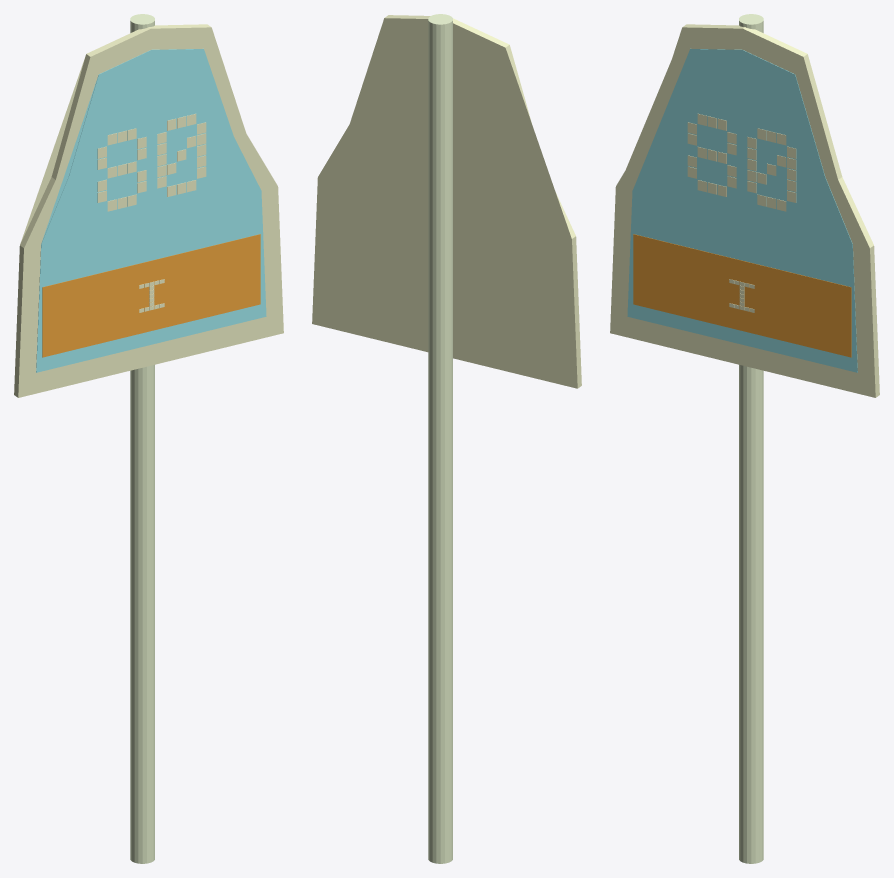
File: sign_route_interstate_80_shield.glb
The picture shows the model from 3 angles, left to right: view 1: azimuth 30°, elevation 25°; view 2: azimuth 150°, elevation 25°; view 3: azimuth 330°, elevation 25°; orthographic projection.
Parts seen in each view (by area): view 1: layer_1_00, plate_base_00, layer_2_00, pole; view 2: plate_base_00, pole; view 3: layer_1_00, plate_base_00, layer_2_00, pole.
Boxes of the visible parts, x1,y1,x2,y2 form: layer_1_00: (36, 48, 266, 372); plate_base_00: (14, 24, 283, 397); layer_2_00: (42, 234, 260, 357); pole: (130, 14, 154, 863); plate_base_00: (312, 15, 581, 388); pole: (428, 14, 452, 863); layer_1_00: (627, 48, 857, 372); plate_base_00: (610, 24, 879, 397); layer_2_00: (633, 234, 851, 357); pole: (739, 14, 763, 863).
Size of the model in its own units: 0.7286 by 2.2 by 0.074.
